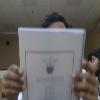notebook: (17, 26, 86, 99)
